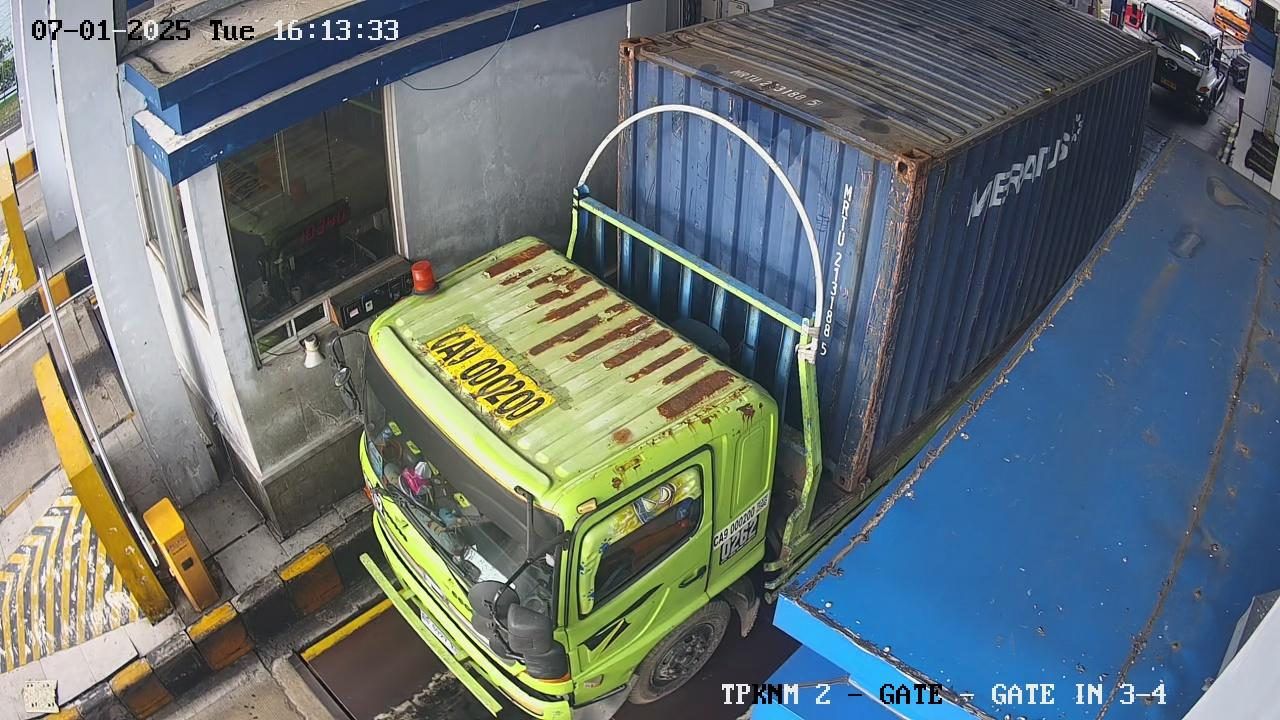Container_ID: (713, 52, 844, 133)
Container_ID_Vertikal: (809, 177, 864, 367)
truck_id: (419, 310, 554, 439), (697, 482, 781, 558)
